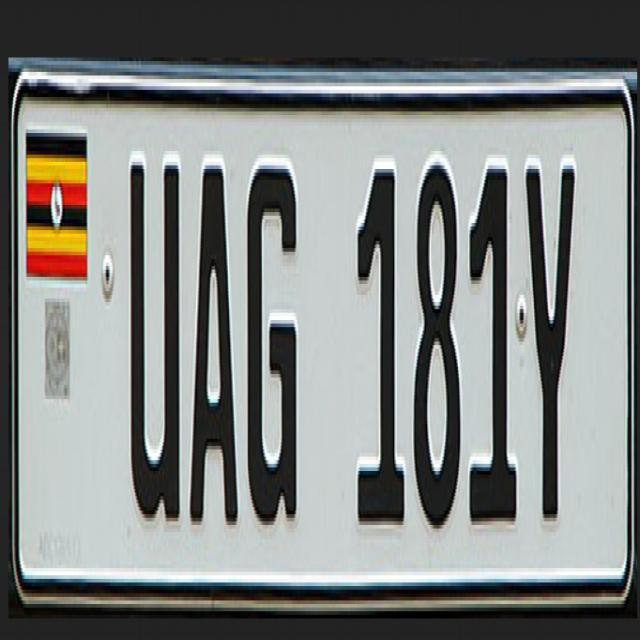1: (352, 146, 409, 524), (467, 142, 520, 544)
8: (411, 146, 466, 534)
A: (188, 137, 244, 550)
G: (239, 134, 307, 526)
U: (127, 132, 182, 530)
Y: (522, 139, 578, 544)
